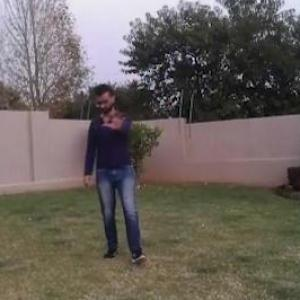follow_hand: (99, 100, 133, 130)
